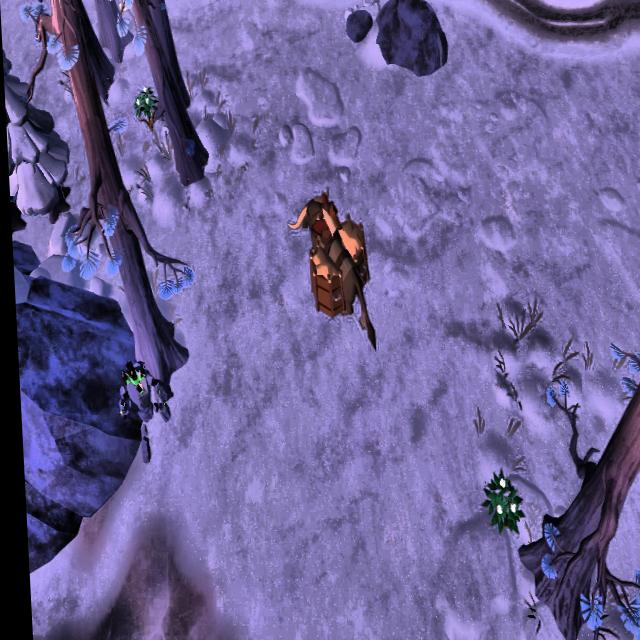fiber_t3: (475, 464, 522, 536)
ore_t3: (134, 81, 164, 134)
